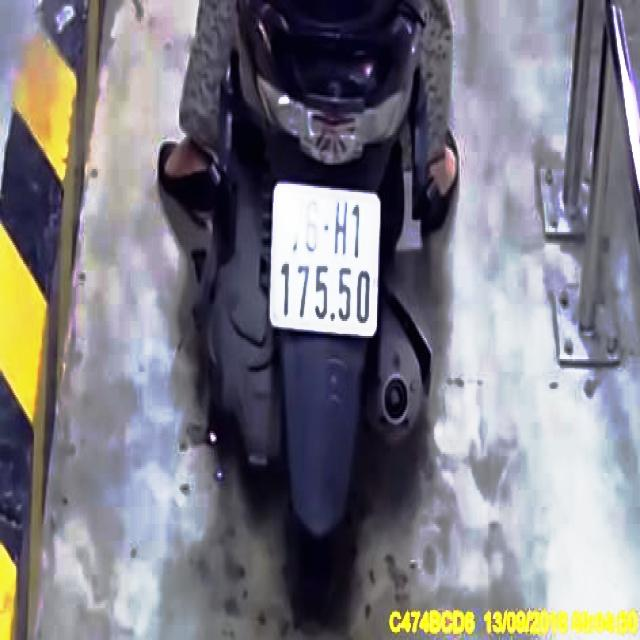license_plate: (271, 182, 384, 337)
